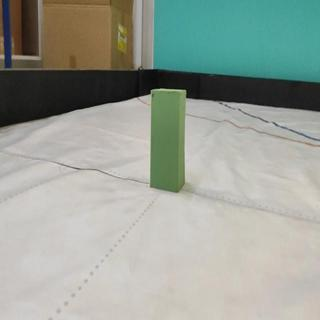greenbox: (148, 88, 186, 193)
